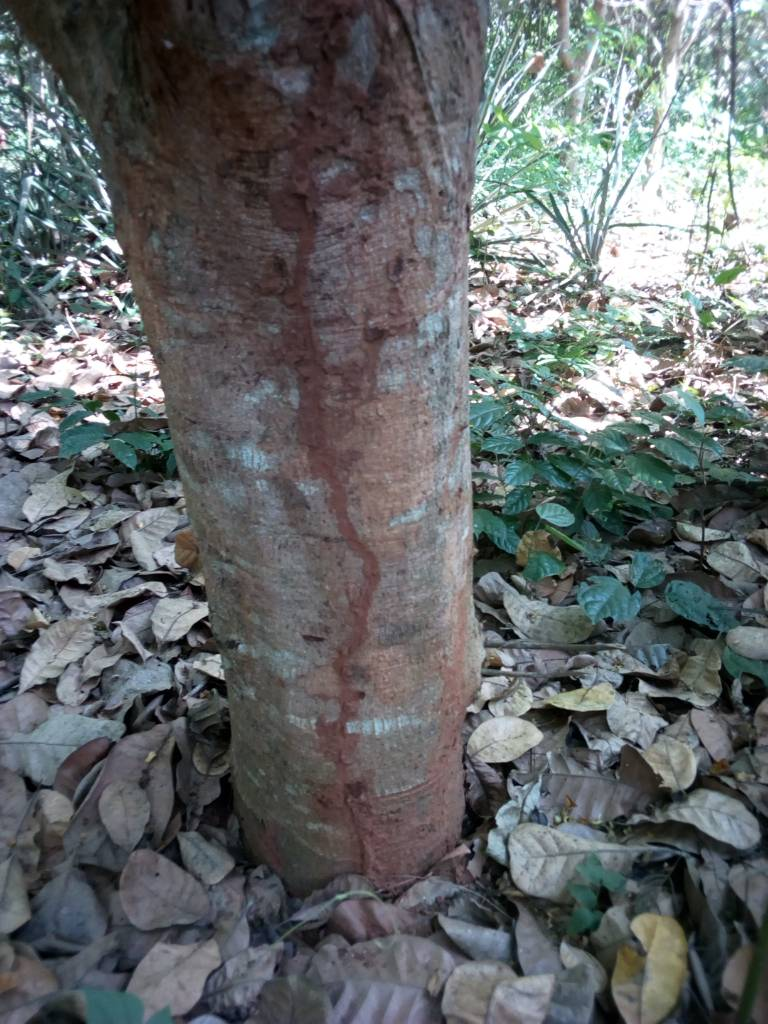Termites: (296, 328, 468, 867), (149, 39, 449, 278)
